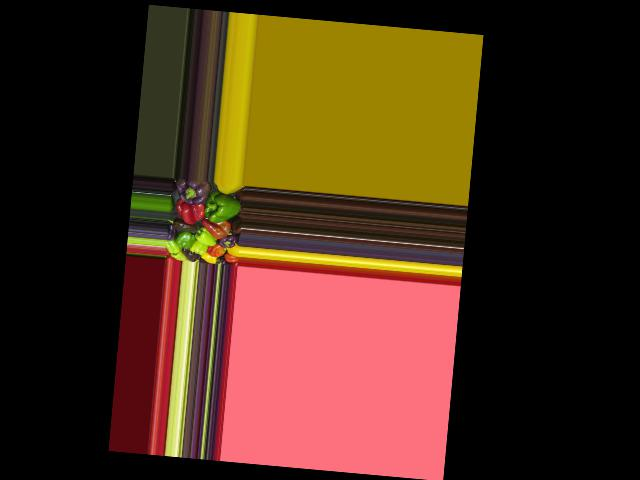bell_pepper: (217, 232, 238, 251)
